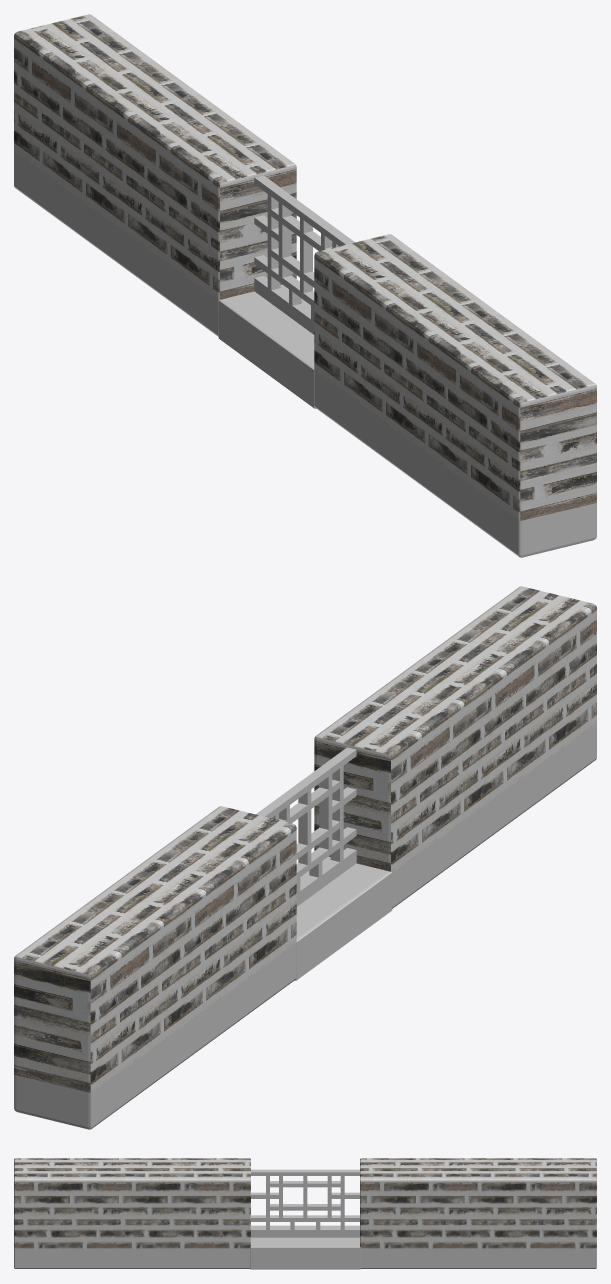
The model's file is SM_Gidan00C.fbx.
The picture shows the model from 3 angles, top to bottom: view 1: azimuth 30°, elevation 25°; view 2: azimuth 150°, elevation 25°; view 3: azimuth 270°, elevation 25°; orthographic projection. The views are drawn at different scales.
Visible parts, largest first — view 1: SM_Gidan00C; view 2: SM_Gidan00C; view 3: SM_Gidan00C.
Part boxes in pixels (box(x1,y1,x2,y2)): SM_Gidan00C: box(14, 14, 596, 557); SM_Gidan00C: box(14, 586, 596, 1129); SM_Gidan00C: box(14, 1158, 596, 1269).
Size of the model in its own units: 20.05 by 225 by 38.44.
